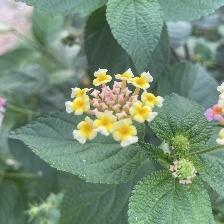common lanthana: (65, 61, 167, 149), (206, 78, 224, 146)
